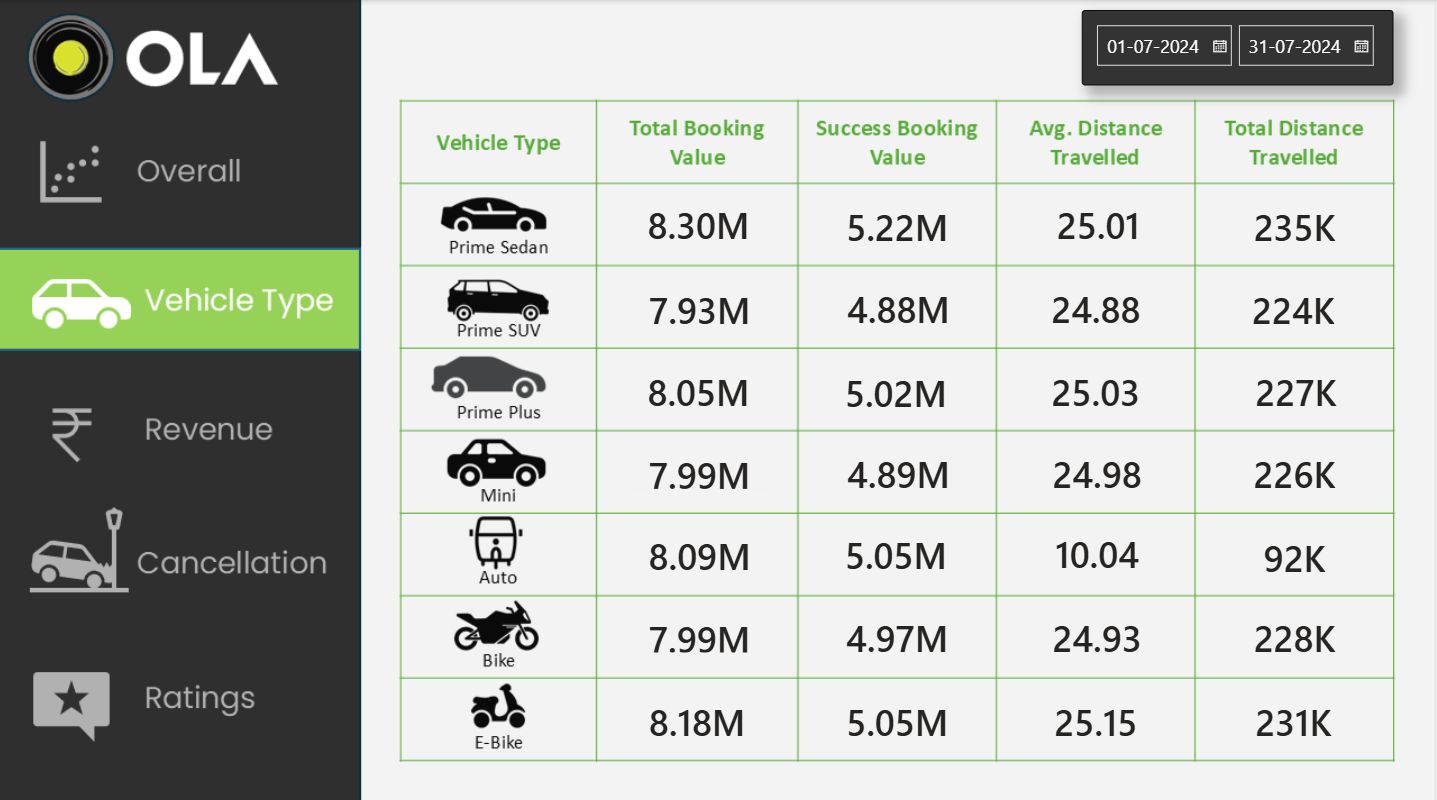

Layout of this report page (visuals, bound fields, positions):
{"tool":"powerbi","page":{"name":"Vehicle type","canvas":[1280,720],"ordinal":1},"visuals":[{"type":"actionButton","box":[0,111.1,323.3,92.2],"z":0},{"type":"actionButton","box":[0,337.8,323.3,92.2],"z":1000},{"type":"actionButton","box":[0,451.1,323.3,92.2],"z":2000},{"type":"actionButton","box":[1.1,577.8,323.3,92.2],"z":3000},{"type":"cardVisual","fields":{"Data":["Sum(July.Booking_Value)"]},"box":[537.5,166.2,172.5,66.2],"z":4000},{"type":"cardVisual","fields":{"Data":["Sum(July.Booking_Value)"]},"box":[537.5,387.5,172.5,66.2],"z":5000},{"type":"cardVisual","fields":{"Data":["Sum(July.Booking_Value)"]},"box":[537.5,460,172.5,66.2],"z":6000},{"type":"cardVisual","fields":{"Data":["Sum(July.Booking_Value)"]},"box":[537.5,533.8,172.5,66.2],"z":7000},{"type":"cardVisual","fields":{"Data":["Sum(July.Booking_Value)"]},"box":[535,607.5,172.5,66.2],"z":8000},{"type":"cardVisual","fields":{"Data":["Sum(July.Booking_Value)"]},"box":[538.8,241.2,172.5,66.2],"z":9000},{"type":"cardVisual","fields":{"Data":["Sum(July.Booking_Value)"]},"box":[537.5,313.8,172.5,66.2],"z":9001},{"type":"cardVisual","fields":{"Data":["Sum(July.Booking_Value)"]},"box":[715,167.5,172.5,66.2],"z":9002},{"type":"cardVisual","fields":{"Data":["Sum(July.Booking_Value)"]},"box":[716.2,240,172.5,66.2],"z":9003},{"type":"cardVisual","fields":{"Data":["Sum(July.Booking_Value)"]},"box":[713.8,315,172.5,66.2],"z":9004},{"type":"cardVisual","fields":{"Data":["Sum(July.Booking_Value)"]},"box":[716.2,387.5,172.5,66.2],"z":9005},{"type":"cardVisual","fields":{"Data":["Sum(July.Booking_Value)"]},"box":[713.8,460,172.5,66.2],"z":9006},{"type":"cardVisual","fields":{"Data":["Sum(July.Booking_Value)"]},"box":[715,533.8,172.5,66.2],"z":9007},{"type":"cardVisual","fields":{"Data":["Sum(July.Booking_Value)"]},"box":[715,607.5,172.5,66.2],"z":9008},{"type":"cardVisual","fields":{"Data":["Avg(July.Ride_Distance)"]},"box":[893.8,166.2,172.5,66.2],"z":9009},{"type":"cardVisual","fields":{"Data":["Avg(July.Ride_Distance)"]},"box":[891.2,240,172.5,66.2],"z":9010},{"type":"cardVisual","fields":{"Data":["Avg(July.Ride_Distance)"]},"box":[891.2,313.8,172.5,66.2],"z":9011},{"type":"cardVisual","fields":{"Data":["Avg(July.Ride_Distance)"]},"box":[892.5,387.5,172.5,66.2],"z":9012},{"type":"cardVisual","fields":{"Data":["Avg(July.Ride_Distance)"]},"box":[892.5,458.8,172.5,66.2],"z":9013},{"type":"cardVisual","fields":{"Data":["Avg(July.Ride_Distance)"]},"box":[892.5,533.8,172.5,66.2],"z":9014},{"type":"cardVisual","fields":{"Data":["Avg(July.Ride_Distance)"]},"box":[891.2,607.5,172.5,66.2],"z":9015},{"type":"cardVisual","fields":{"Data":["Sum(July.Ride_Distance)"]},"box":[1068.8,167.5,172.5,66.2],"z":9016},{"type":"cardVisual","fields":{"Data":["Sum(July.Ride_Distance)"]},"box":[1067.5,241.2,172.5,66.2],"z":9017},{"type":"cardVisual","fields":{"Data":["Sum(July.Ride_Distance)"]},"box":[1070,313.8,172.5,66.2],"z":9018},{"type":"cardVisual","fields":{"Data":["Sum(July.Ride_Distance)"]},"box":[1068.8,387.5,172.5,66.2],"z":9019},{"type":"cardVisual","fields":{"Data":["Sum(July.Ride_Distance)"]},"box":[1068.8,462.5,172.5,66.2],"z":9020},{"type":"cardVisual","fields":{"Data":["Sum(July.Ride_Distance)"]},"box":[1068.8,533.8,172.5,66.2],"z":9021},{"type":"cardVisual","fields":{"Data":["Sum(July.Ride_Distance)"]},"box":[1067.5,607.5,172.5,66.2],"z":9022},{"type":"slicer","title":"Date","fields":{"Values":["July.Date"]},"box":[965,8.8,277.5,67.5],"z":9023}]}

Visuals, with their boxes on the page's 1280x720 design canvas (x1, y1, x2, y2). These are canvas units, not pixel positions in the 1437x800 screenshot, which may show the page scaled, cropped or inside an application window:
actionButton: x1=0, y1=111, x2=323, y2=203
actionButton: x1=0, y1=338, x2=323, y2=430
actionButton: x1=0, y1=451, x2=323, y2=543
actionButton: x1=1, y1=578, x2=324, y2=670
cardVisual - Sum(July.Booking_Value): x1=538, y1=166, x2=710, y2=232
cardVisual - Sum(July.Booking_Value): x1=538, y1=388, x2=710, y2=454
cardVisual - Sum(July.Booking_Value): x1=538, y1=460, x2=710, y2=526
cardVisual - Sum(July.Booking_Value): x1=538, y1=534, x2=710, y2=600
cardVisual - Sum(July.Booking_Value): x1=535, y1=608, x2=708, y2=674
cardVisual - Sum(July.Booking_Value): x1=539, y1=241, x2=711, y2=307
cardVisual - Sum(July.Booking_Value): x1=538, y1=314, x2=710, y2=380
cardVisual - Sum(July.Booking_Value): x1=715, y1=168, x2=888, y2=234
cardVisual - Sum(July.Booking_Value): x1=716, y1=240, x2=889, y2=306
cardVisual - Sum(July.Booking_Value): x1=714, y1=315, x2=886, y2=381
cardVisual - Sum(July.Booking_Value): x1=716, y1=388, x2=889, y2=454
cardVisual - Sum(July.Booking_Value): x1=714, y1=460, x2=886, y2=526
cardVisual - Sum(July.Booking_Value): x1=715, y1=534, x2=888, y2=600
cardVisual - Sum(July.Booking_Value): x1=715, y1=608, x2=888, y2=674
cardVisual - Avg(July.Ride_Distance): x1=894, y1=166, x2=1066, y2=232
cardVisual - Avg(July.Ride_Distance): x1=891, y1=240, x2=1064, y2=306
cardVisual - Avg(July.Ride_Distance): x1=891, y1=314, x2=1064, y2=380
cardVisual - Avg(July.Ride_Distance): x1=892, y1=388, x2=1065, y2=454
cardVisual - Avg(July.Ride_Distance): x1=892, y1=459, x2=1065, y2=525
cardVisual - Avg(July.Ride_Distance): x1=892, y1=534, x2=1065, y2=600
cardVisual - Avg(July.Ride_Distance): x1=891, y1=608, x2=1064, y2=674
cardVisual - Sum(July.Ride_Distance): x1=1069, y1=168, x2=1241, y2=234
cardVisual - Sum(July.Ride_Distance): x1=1068, y1=241, x2=1240, y2=307
cardVisual - Sum(July.Ride_Distance): x1=1070, y1=314, x2=1242, y2=380
cardVisual - Sum(July.Ride_Distance): x1=1069, y1=388, x2=1241, y2=454
cardVisual - Sum(July.Ride_Distance): x1=1069, y1=462, x2=1241, y2=529
cardVisual - Sum(July.Ride_Distance): x1=1069, y1=534, x2=1241, y2=600
cardVisual - Sum(July.Ride_Distance): x1=1068, y1=608, x2=1240, y2=674
"Date" slicer: x1=965, y1=9, x2=1242, y2=76
